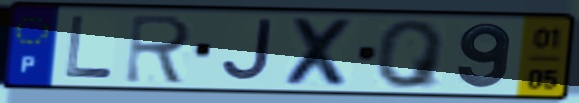9: (453, 20, 515, 92)
J: (218, 17, 275, 86)
L: (63, 14, 117, 81)
Q: (375, 18, 449, 91)
R: (121, 12, 196, 87)
X: (281, 15, 359, 90)
